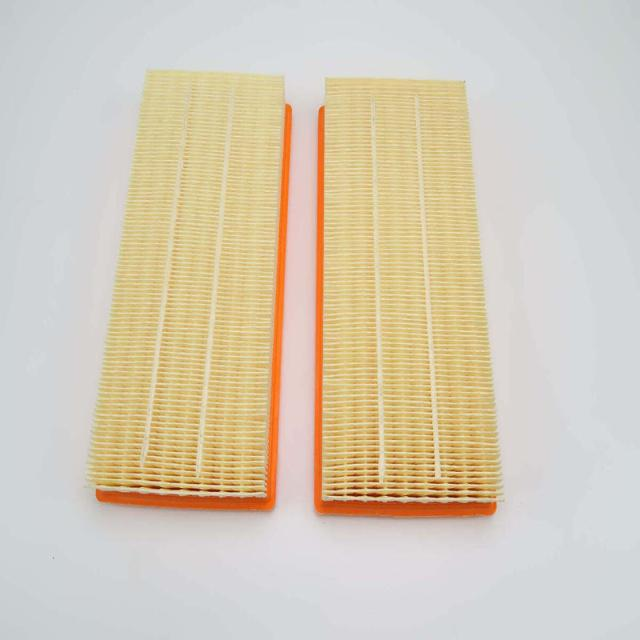air_filter: (83, 59, 297, 516), (312, 70, 496, 524)
